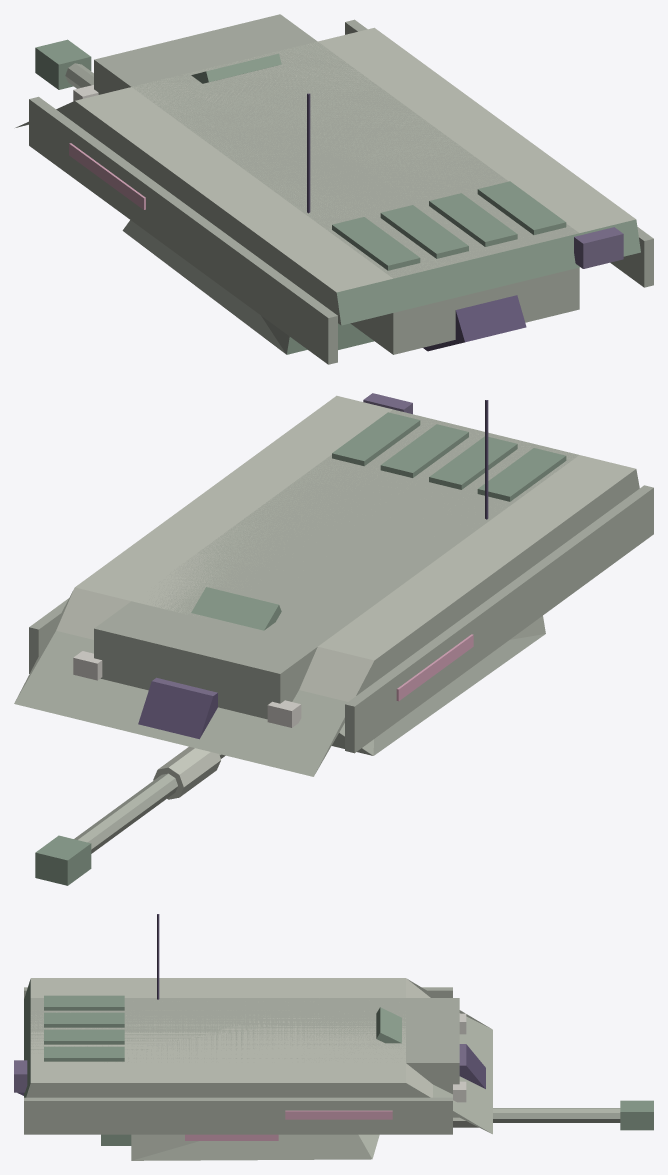
The model's file is tank.glb.
The picture shows the model from 3 angles, top to bottom: view 1: azimuth 30°, elevation 25°; view 2: azimuth 150°, elevation 25°; view 3: azimuth 270°, elevation 25°; orthographic projection. The views are drawn at different scales.
Visible parts, largest first — view 1: hull, turret, track, barrel; view 2: hull, barrel, turret, track; view 3: hull, turret, barrel, track.
Boxes of the visible parts, x1,y1,x2,y2 form: hull: (15, 14, 653, 364); turret: (122, 93, 373, 354); track: (423, 295, 526, 351); barrel: (35, 39, 93, 89); hull: (14, 393, 653, 776); barrel: (35, 746, 225, 885); turret: (332, 400, 545, 755); track: (138, 677, 217, 739); hull: (14, 978, 492, 1134); turret: (101, 914, 379, 1160); barrel: (453, 1100, 653, 1130); track: (17, 1044, 485, 1095).
Bounding box in the file's own units: 4.07 × 3.15 × 9.55.
